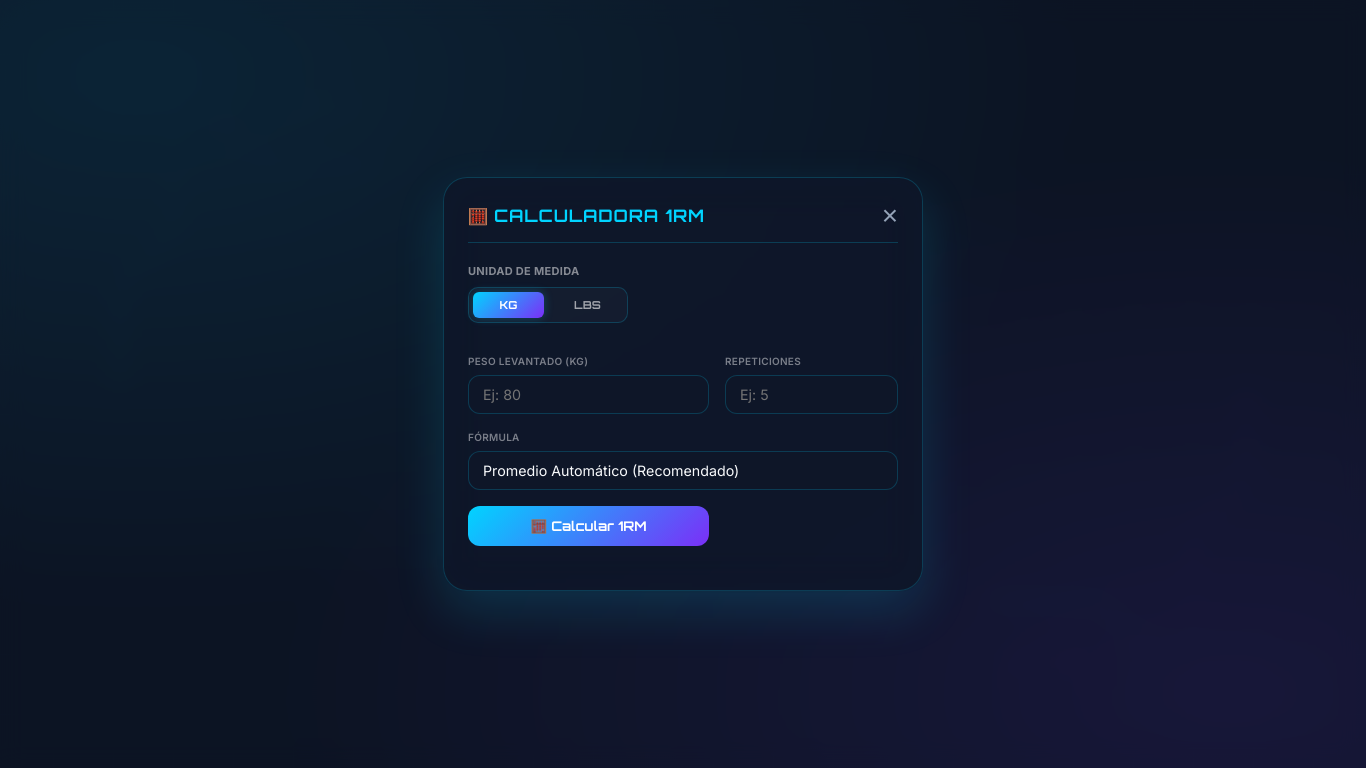
RMCalculatorModal — selector de unidad KG / LBS › cambiar unidad resetea el resultado: tras calcular con Epley, clic en "LBS" hace desaparecer "1RM Estimado"
The image size is (1366, 768).
Note: Calcular con Epley
Type "80" into the number field with placeholder "Ej: 80" at (588, 395), box x1=468 y1=375 x2=709 y2=414
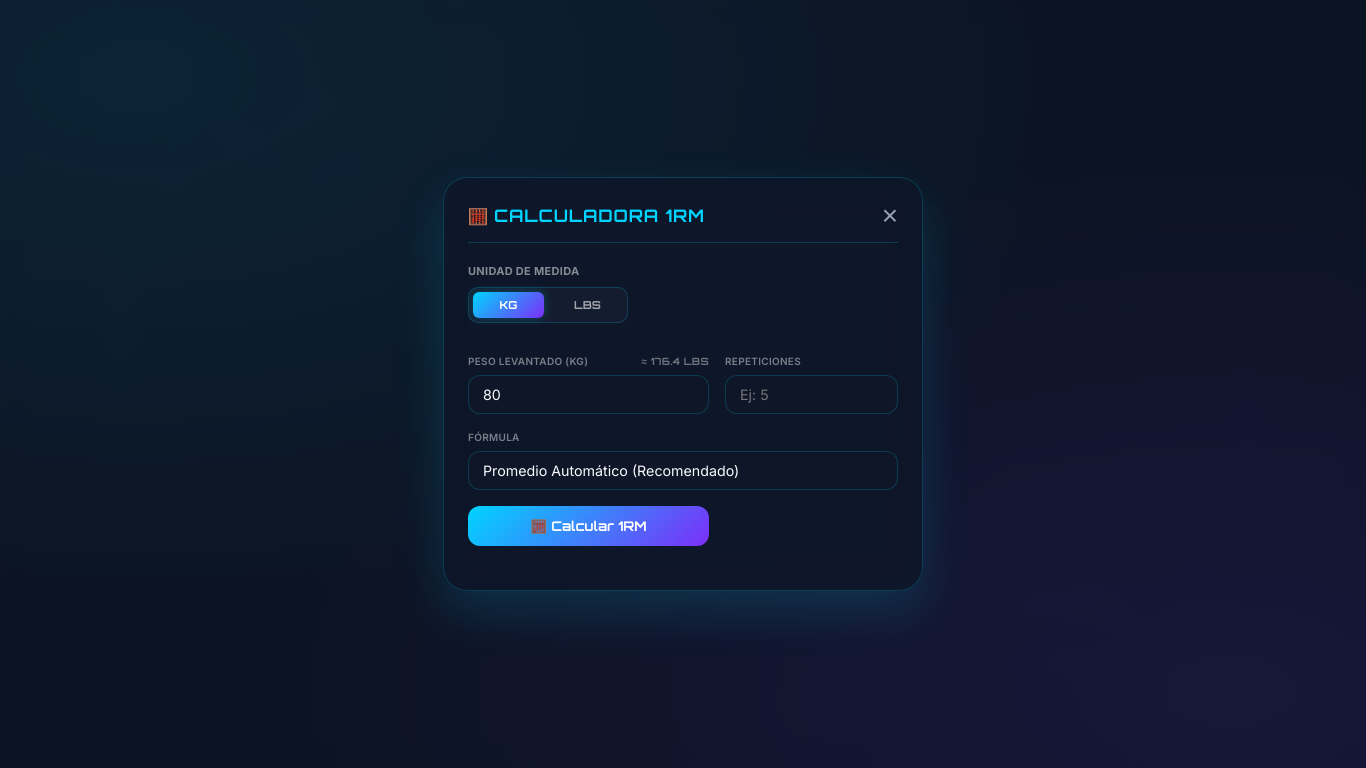
Type "5" into the number field with placeholder "Ej: 5" at (812, 395), box x1=725 y1=375 x2=898 y2=414
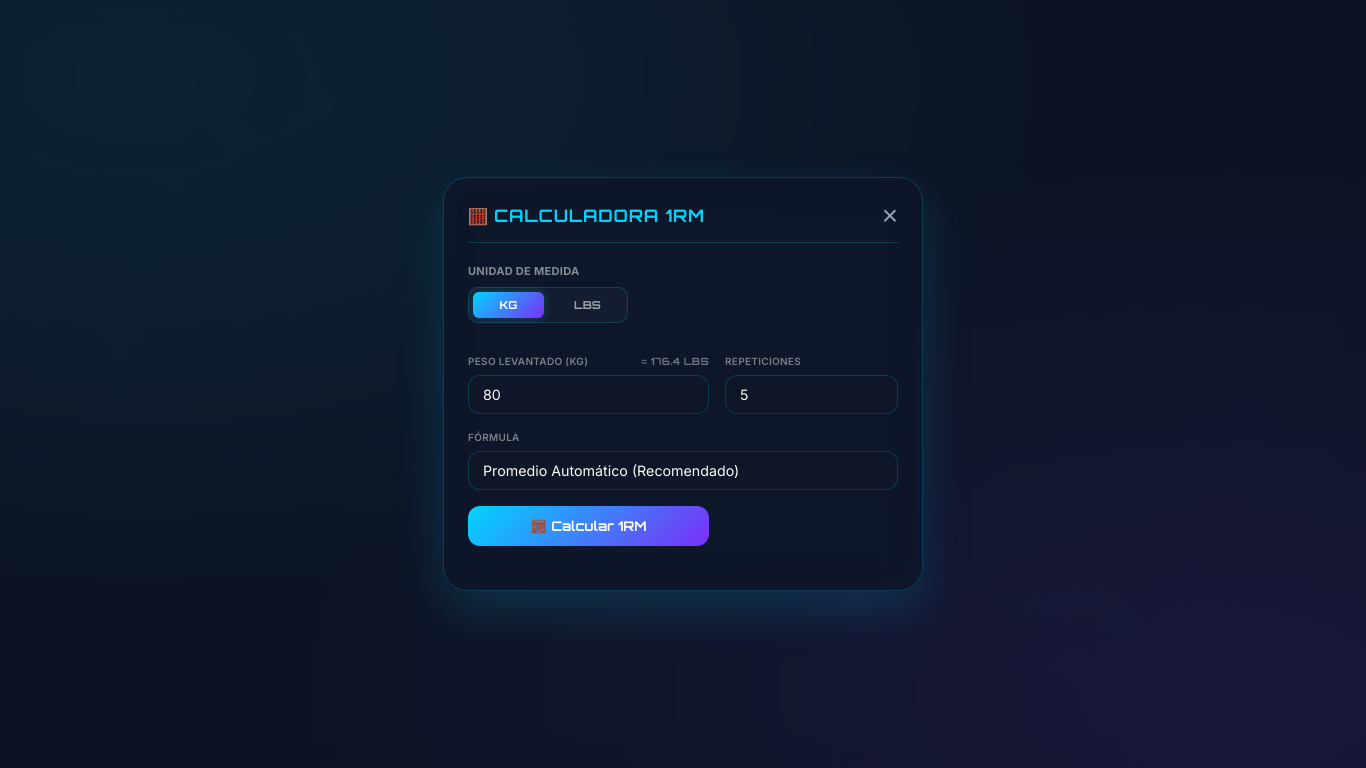
Select "Epley" in the dropdown with id "select1RMFormula" at (683, 471), box x1=468 y1=451 x2=898 y2=490
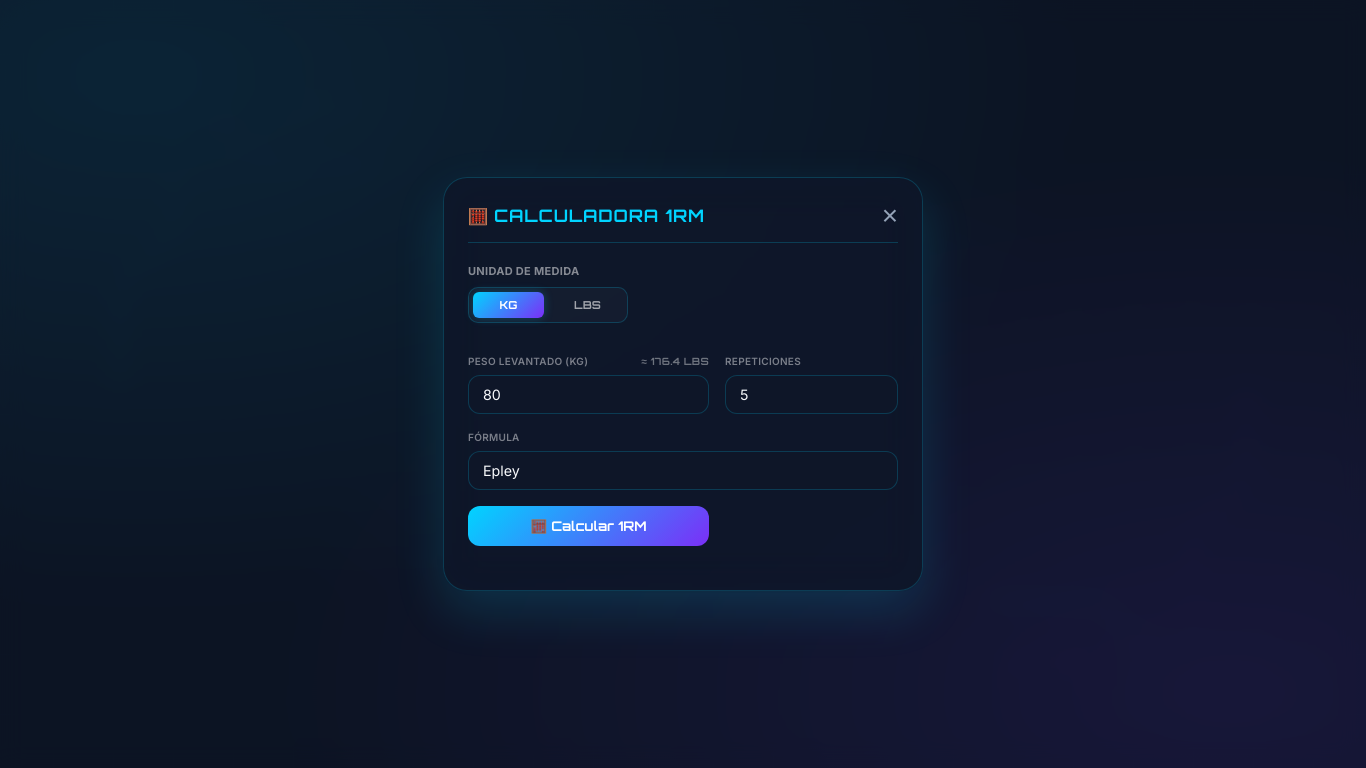
Click the button "🧮 Calcular 1RM" at (588, 526), box x1=468 y1=506 x2=709 y2=546
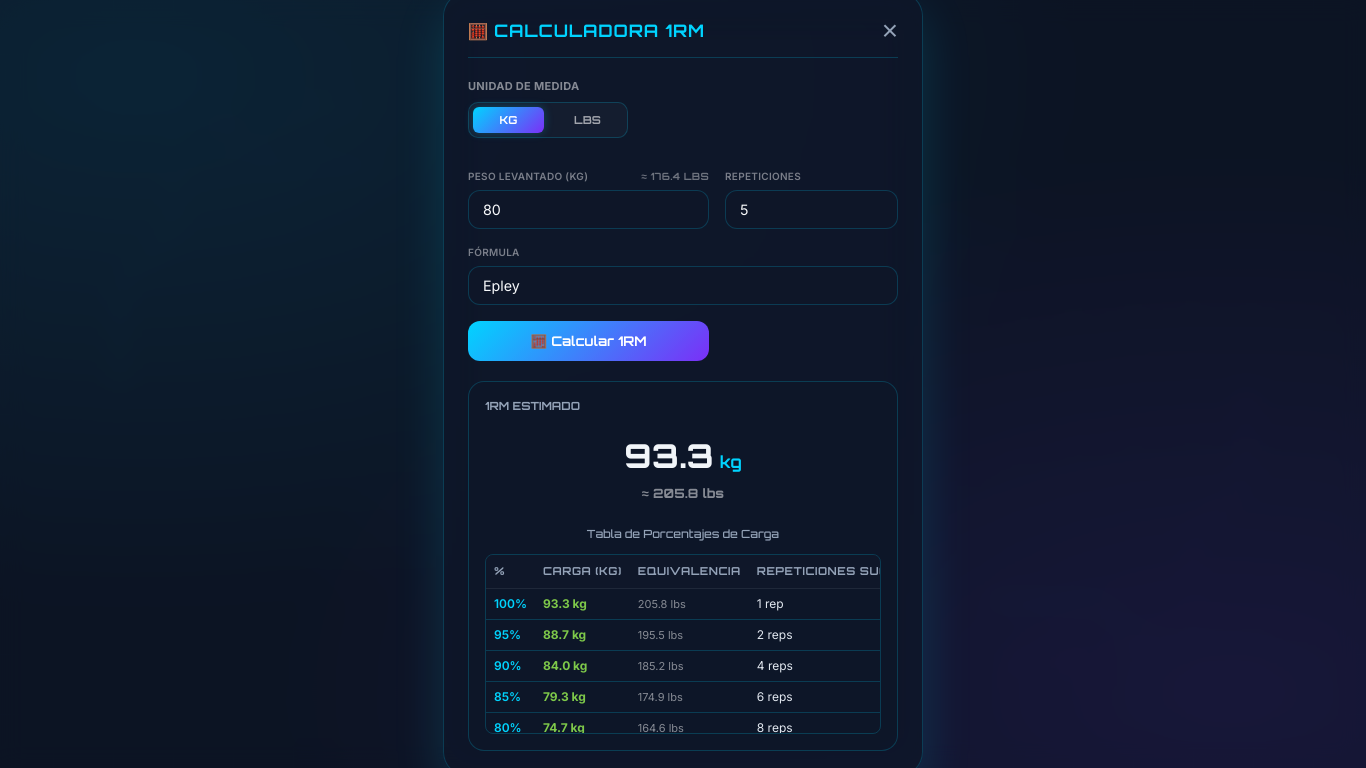
Expected: the text "1RM Estimado" is shown, x1=485 y1=399 x2=580 y2=413
Note: Cambiar la unidad resetea el resultado
Click the button "LBS" at (588, 120), box x1=552 y1=107 x2=623 y2=133
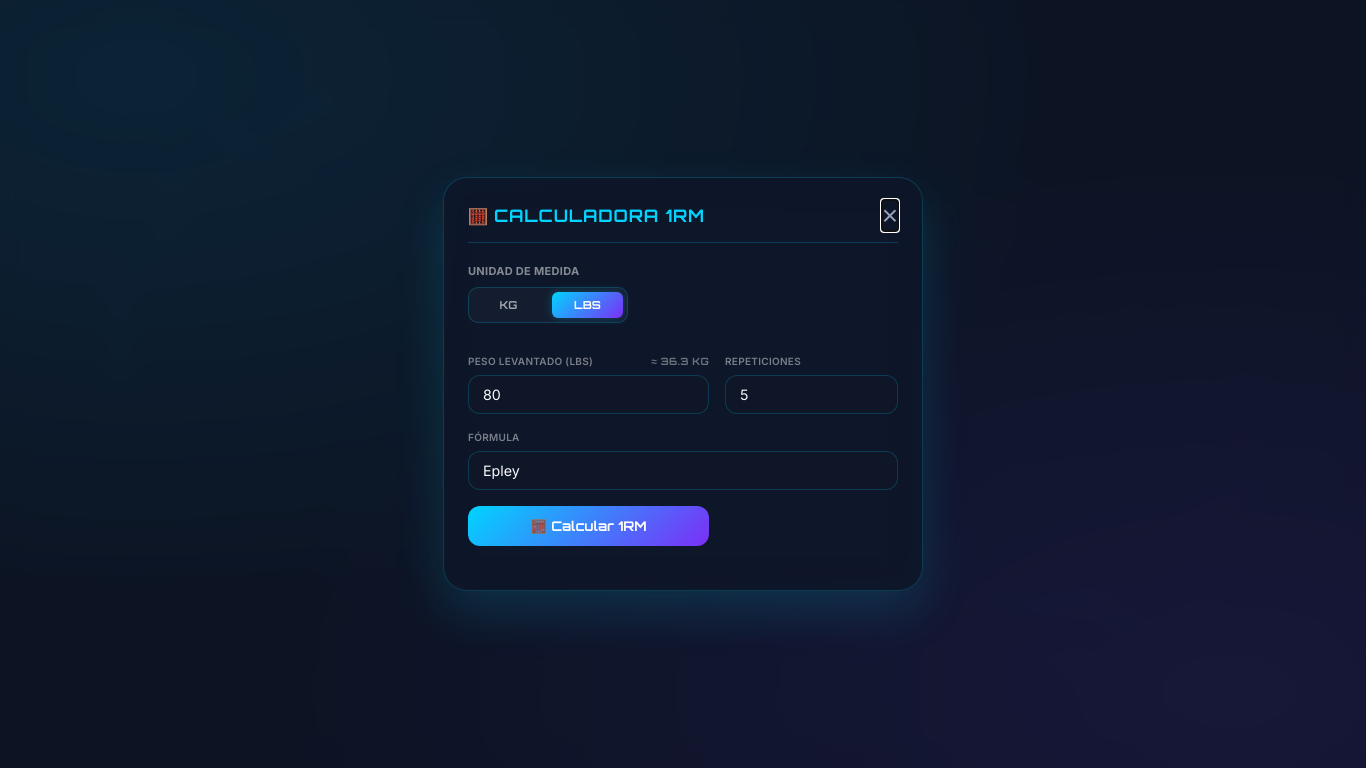
Expected: the text "1RM Estimado" is gone
